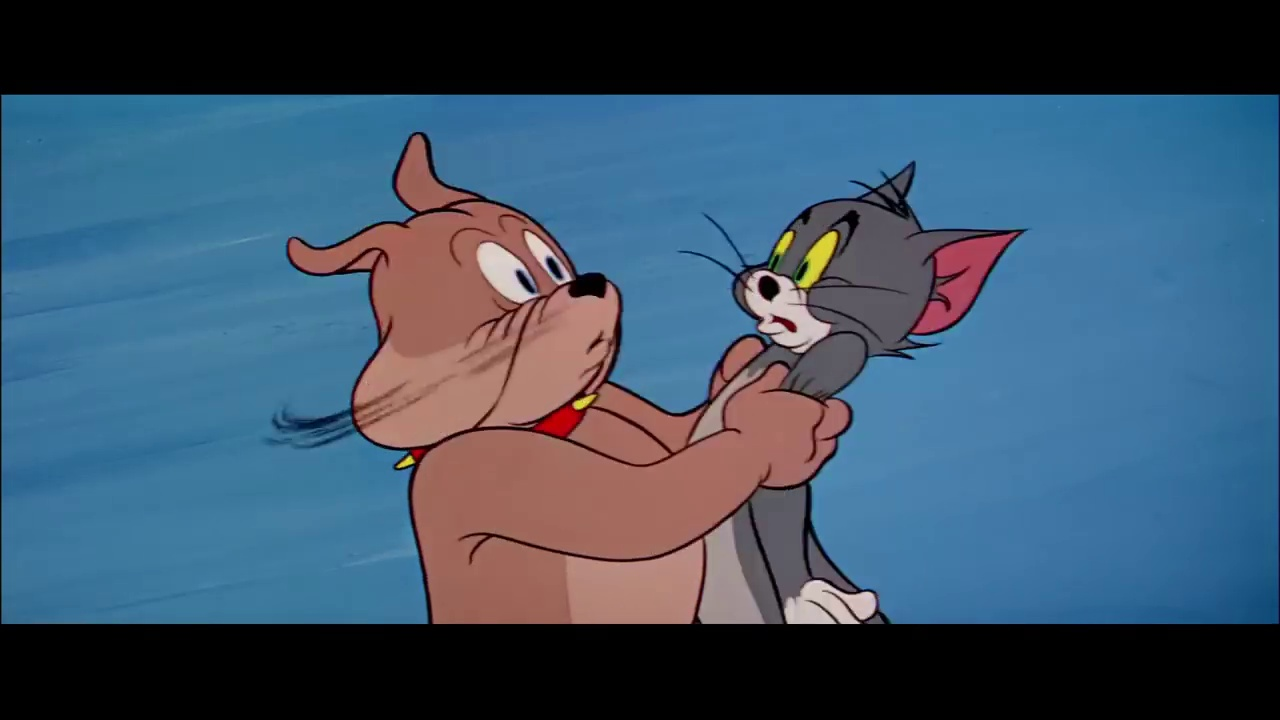spike: (283, 126, 621, 455)
tom: (729, 160, 1035, 372)
